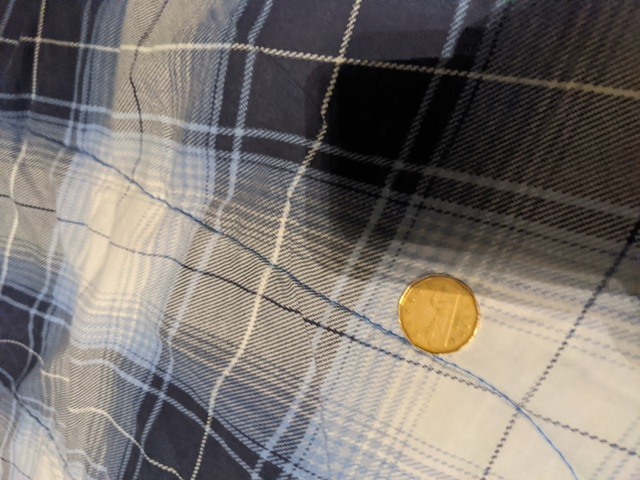loonie: (392, 259, 486, 355)
